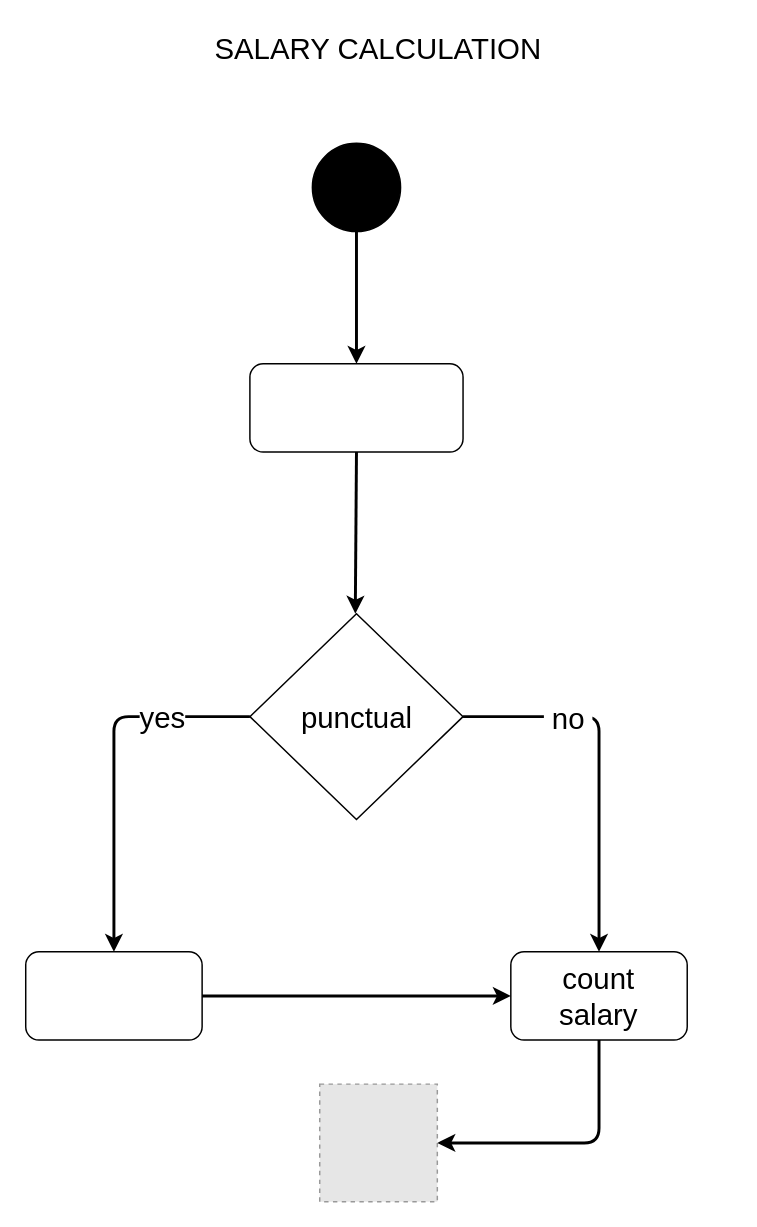
Some shapes in this 757 by 1227 pixel diagram are drawn without their labels. Grey dashed boxes stand in for pictures. Here are the shapes that lost their labels. From the top down, the centre of each, then its label:
At point (355, 407): "Attendance".
At point (113, 995): "punctuality bonus".
